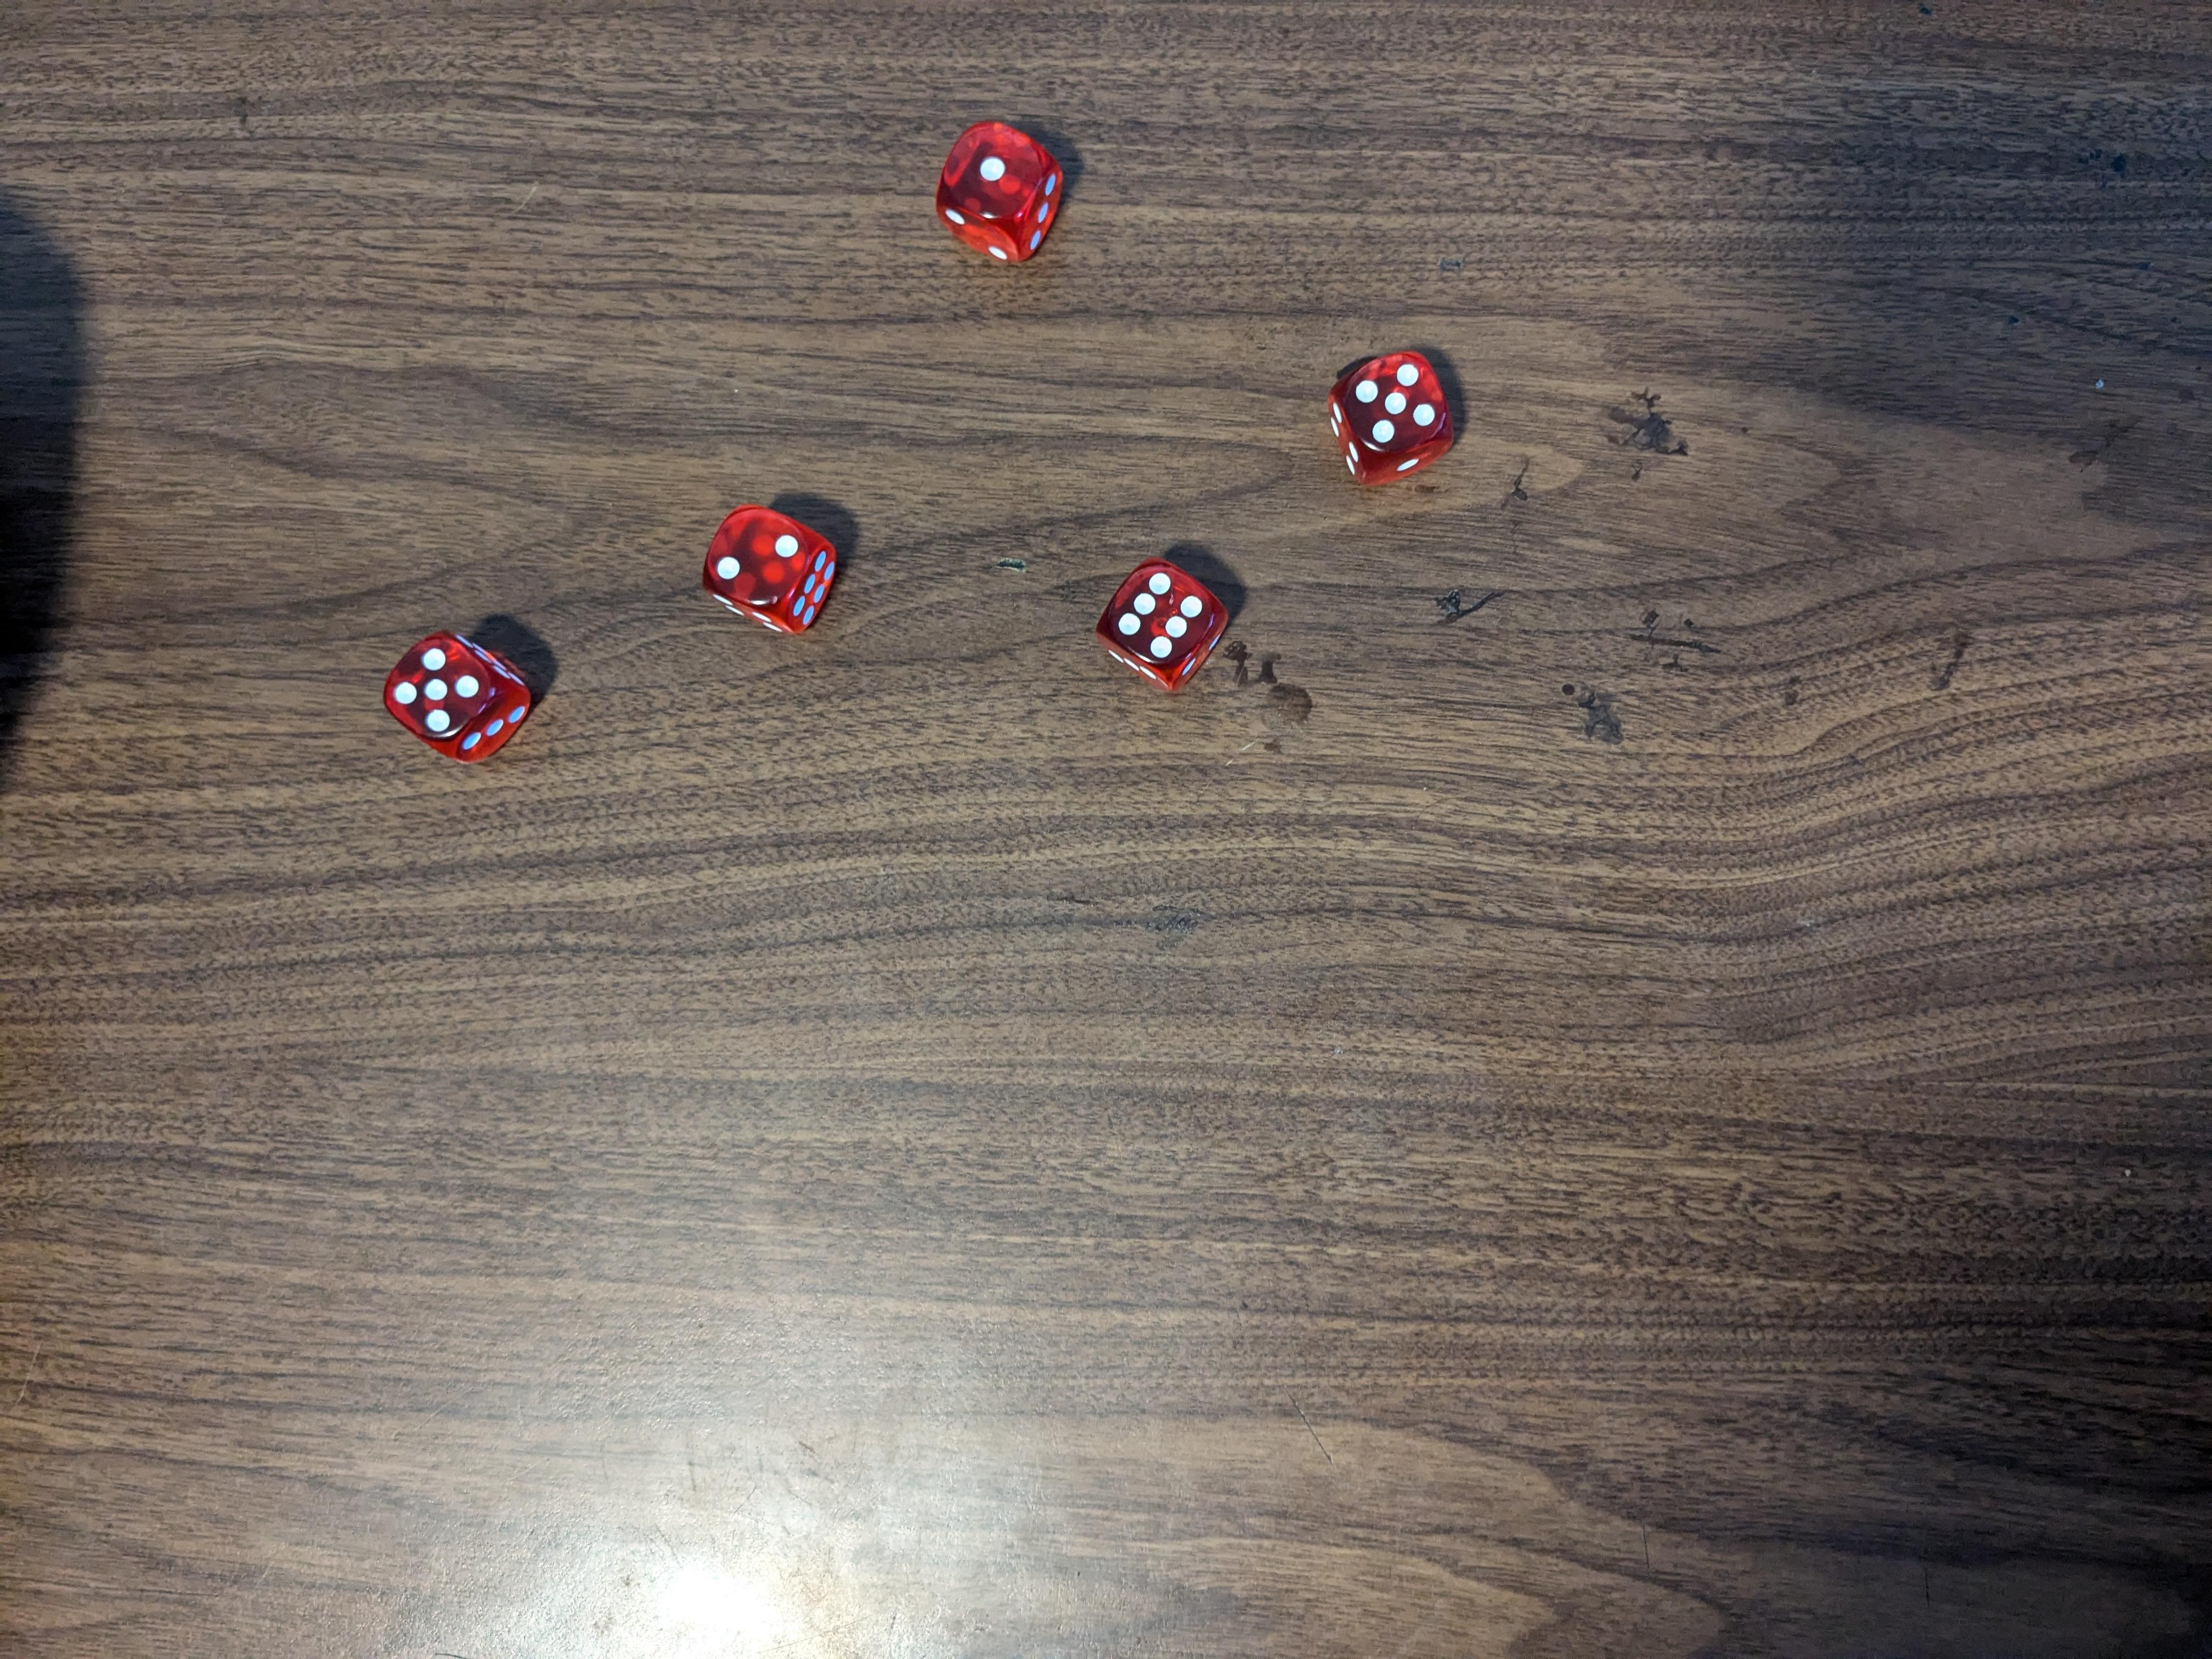five: (374, 627, 536, 765), (1324, 340, 1463, 488)
one: (934, 117, 1071, 261)
six: (1090, 556, 1235, 692)
two: (698, 498, 838, 636)
